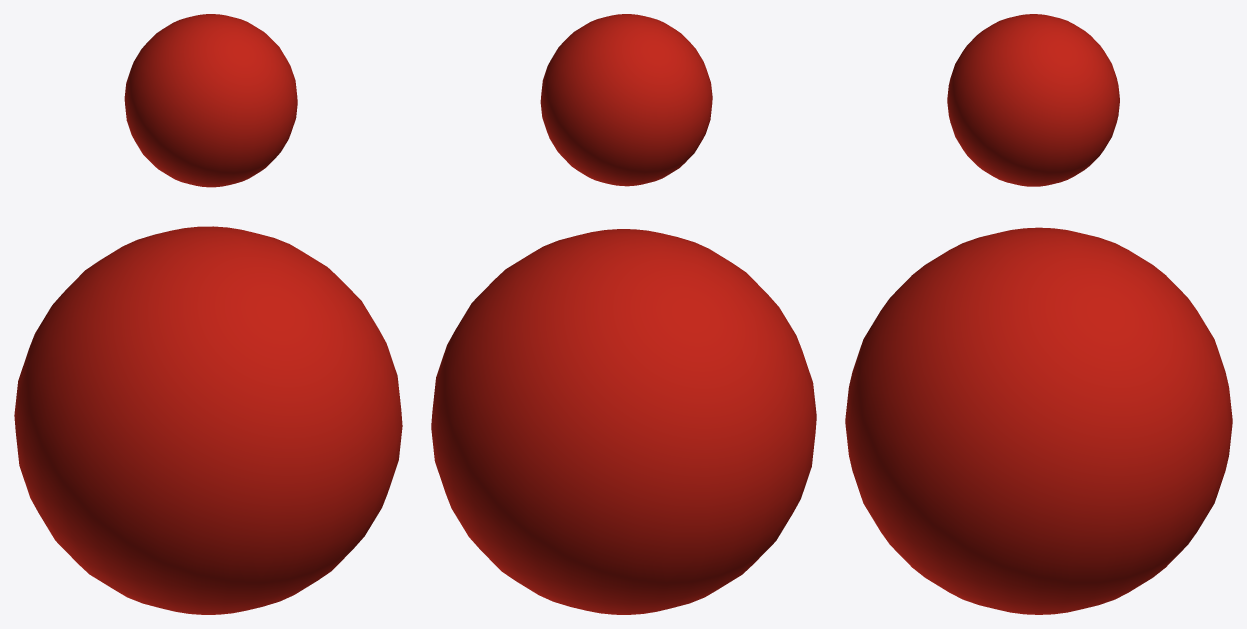
File: PlayerSphere.fbx
3 renders of one model, left to right at view 1: azimuth 30°, elevation 25°; view 2: azimuth 150°, elevation 25°; view 3: azimuth 270°, elevation 25°, orthographic.
Visible parts, largest first — view 1: Torzo.001, Sphere; view 2: Torzo.001, Sphere; view 3: Torzo.001, Sphere.
Boxes of the visible parts, bbox=[...] form: Torzo.001: bbox=[14, 226, 402, 614]; Sphere: bbox=[124, 14, 297, 187]; Torzo.001: bbox=[431, 229, 816, 614]; Sphere: bbox=[540, 14, 712, 186]; Torzo.001: bbox=[845, 227, 1232, 614]; Sphere: bbox=[947, 14, 1119, 186].
Size of the model in its own units: 113 by 185 by 113.
